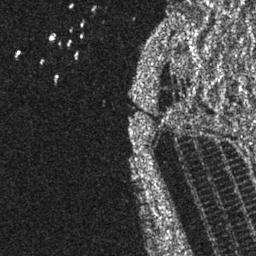ship: (49, 30, 56, 42), (14, 49, 21, 60), (73, 51, 80, 61), (53, 73, 59, 84), (66, 38, 72, 48), (68, 1, 74, 10), (79, 21, 85, 28), (79, 32, 84, 39)
